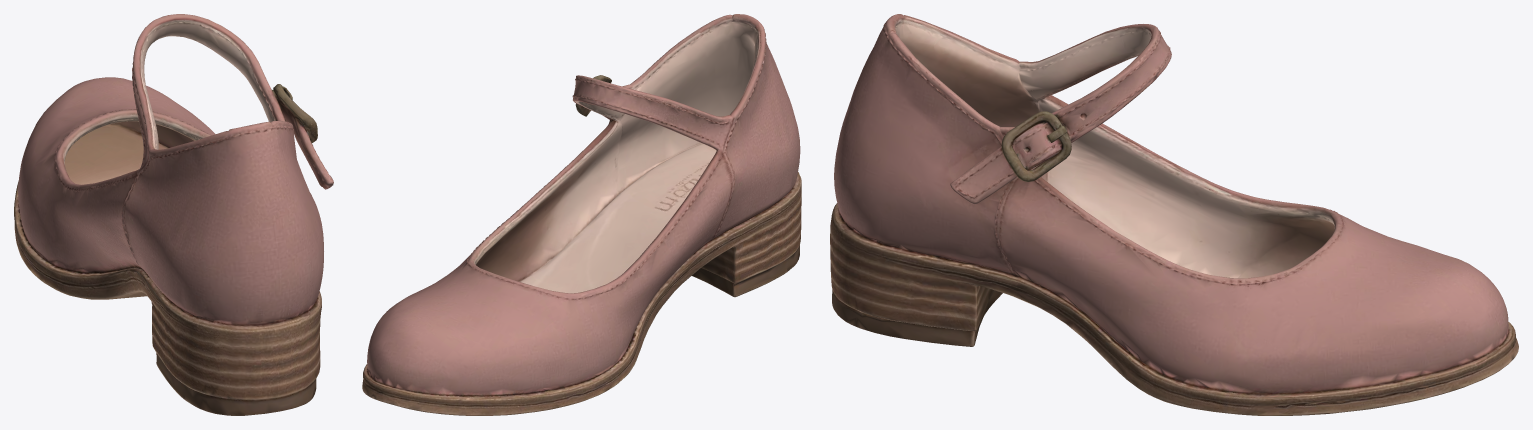
Rendered from maryjane.glb.
3 views of the same model, side by side, from view 1: azimuth 30°, elevation 25°; view 2: azimuth 150°, elevation 25°; view 3: azimuth 270°, elevation 25° (orthographic). The views are drawn at different scales.
Visible parts, largest first — view 1: tripo_node_3935dfa7-961d-43bd-ba6f-8f23194baaf9; view 2: tripo_node_3935dfa7-961d-43bd-ba6f-8f23194baaf9; view 3: tripo_node_3935dfa7-961d-43bd-ba6f-8f23194baaf9.
Boxes of the visible parts, x1,y1,x2,y2 form: tripo_node_3935dfa7-961d-43bd-ba6f-8f23194baaf9: (14, 14, 333, 415); tripo_node_3935dfa7-961d-43bd-ba6f-8f23194baaf9: (362, 14, 801, 415); tripo_node_3935dfa7-961d-43bd-ba6f-8f23194baaf9: (830, 14, 1518, 415).
Size of the model in its own units: 0.4448 by 0.4819 by 0.9802.
Materials: 1 (1 with a texture image).
